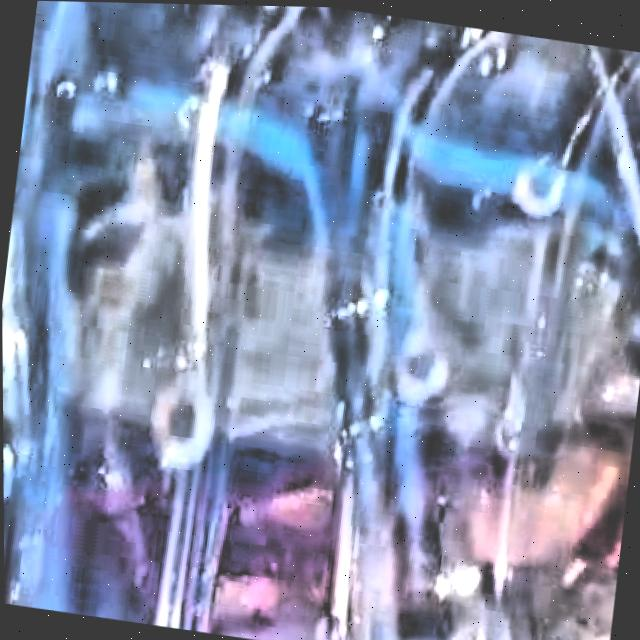plastic: (2, 1, 640, 640)
